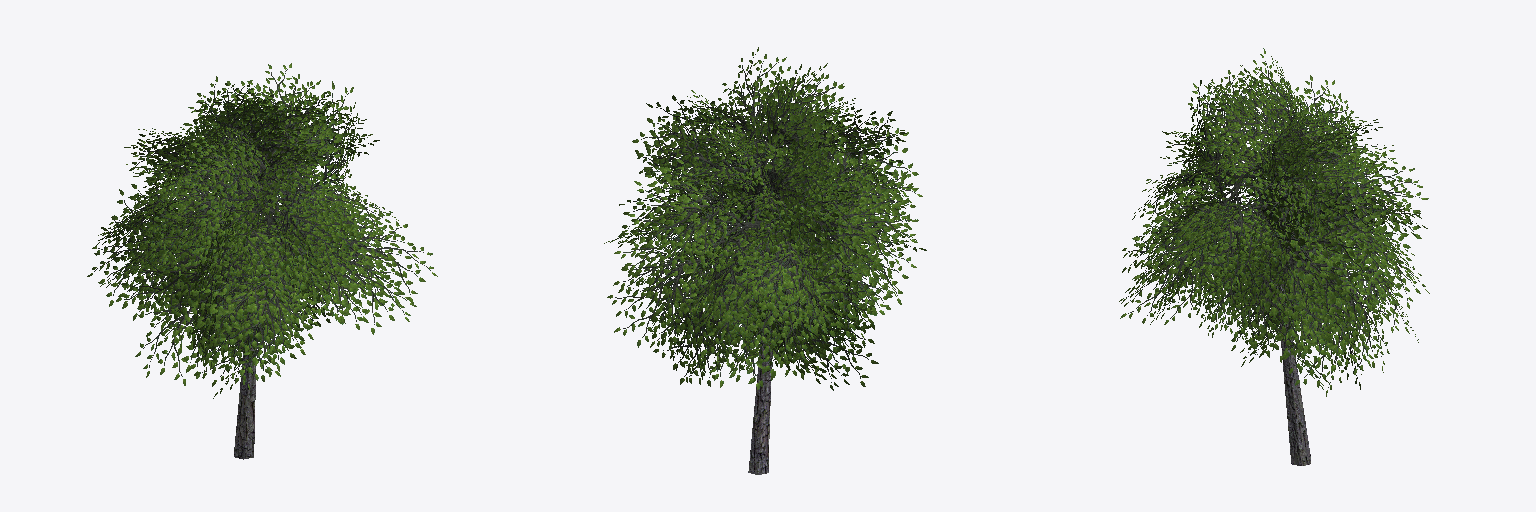
The picture shows the model from 3 angles: view 1: azimuth 30°, elevation 25°; view 2: azimuth 150°, elevation 25°; view 3: azimuth 270°, elevation 25°; orthographic projection.
Visible parts, largest first — view 1: Default; view 2: Default; view 3: Default.
Boxes of the visible parts, box(x1,y1,x2,y2) form: Default: box(87, 63, 437, 459); Default: box(604, 47, 926, 474); Default: box(1119, 48, 1429, 465).
Bounding box in the file's own units: 14.06 × 15.93 × 13.58.
2 materials, 2 textured.